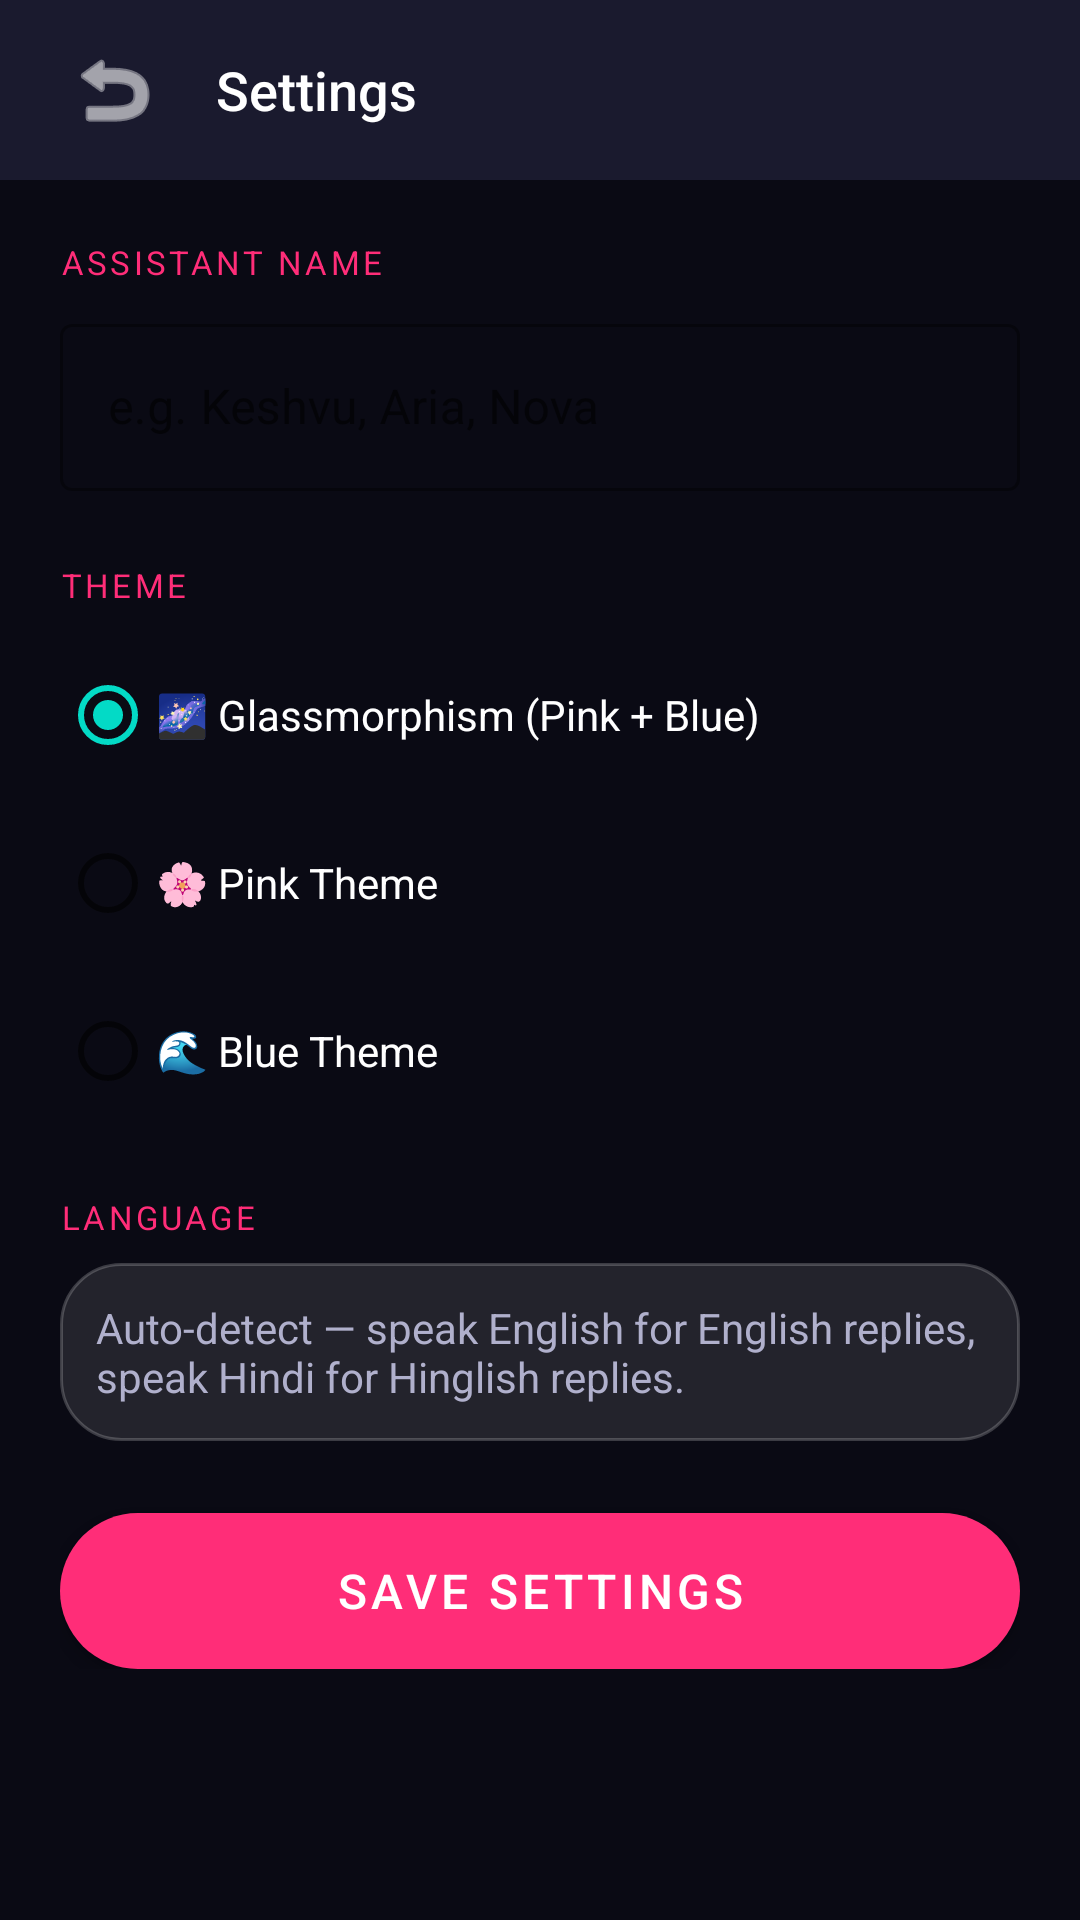

Locate icon controls on the screen. Image size 1080px x 1920px, boxes as (x1, y1, x2, y2).
revert: (81, 59, 150, 122)
